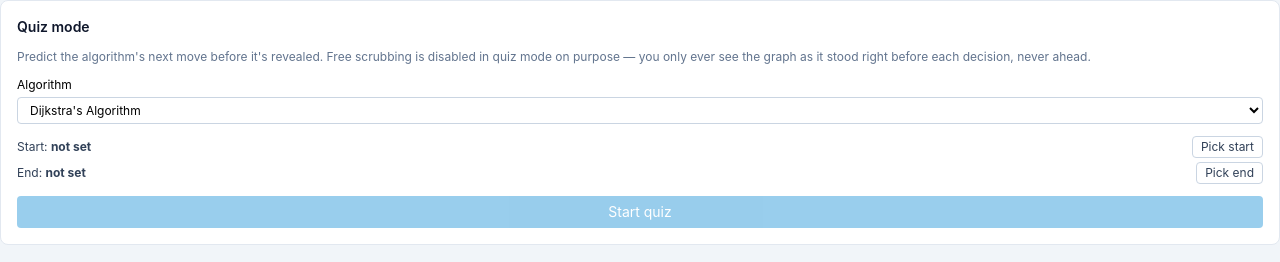
Test: QuizPanel › enables Start quiz for an MST algorithm without start/end
This screenshot has width=1280, height=262.
Select "Kruskal's Algorithm" in the dropdown named "Quiz algorithm": (640, 110) [17,97,1263,124]
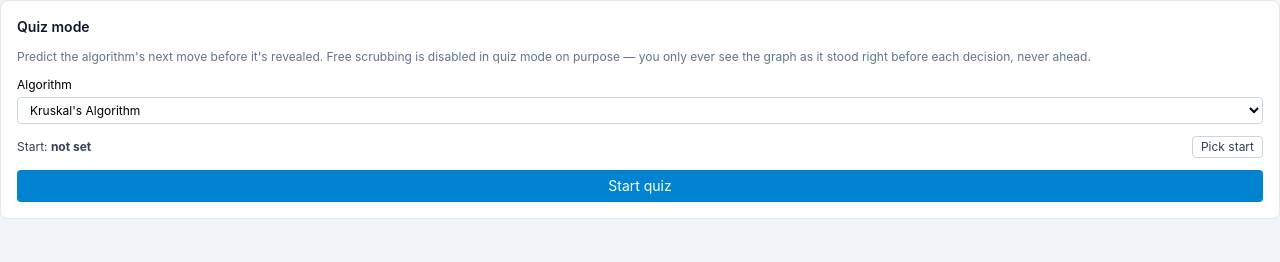
Now the button "Start quiz" is enabled, box [17,170,1263,202]
